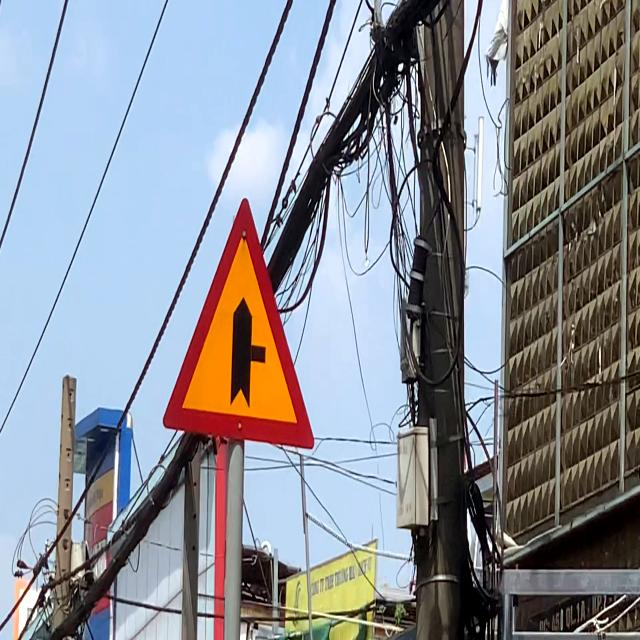W.207b: (157, 182, 320, 465)
